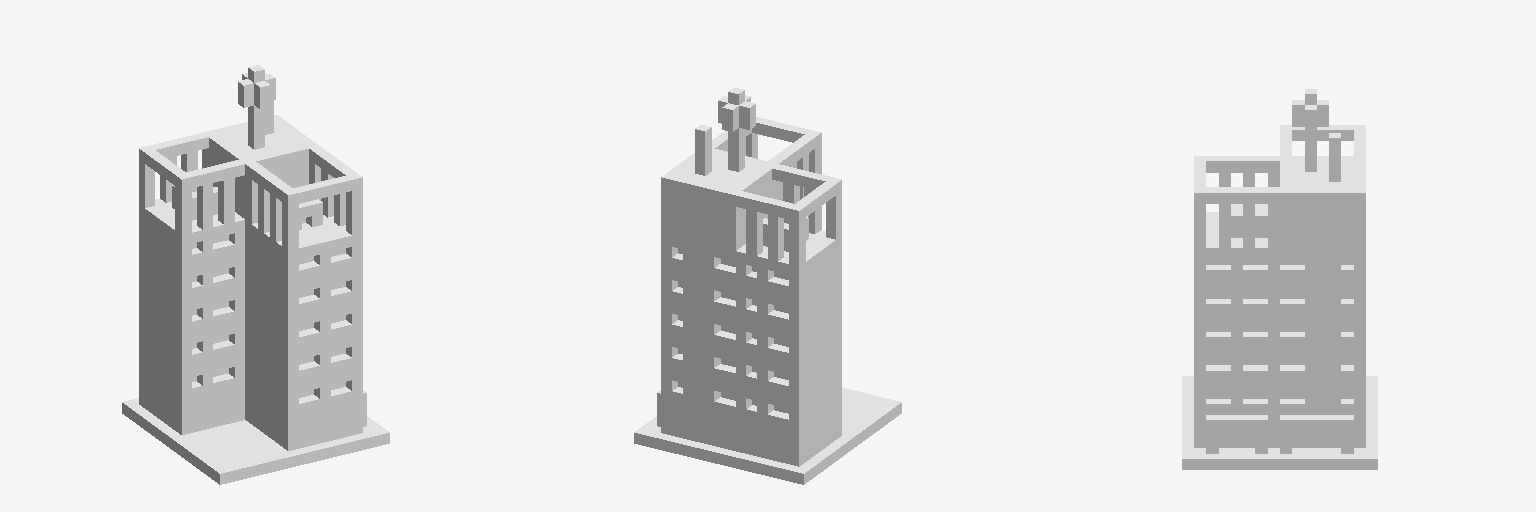
File: House6.obj
3 renders of one model, left to right at view 1: azimuth 30°, elevation 25°; view 2: azimuth 150°, elevation 25°; view 3: azimuth 270°, elevation 25°, orthographic.
Size of the model in its own units: 16 by 31 by 16.